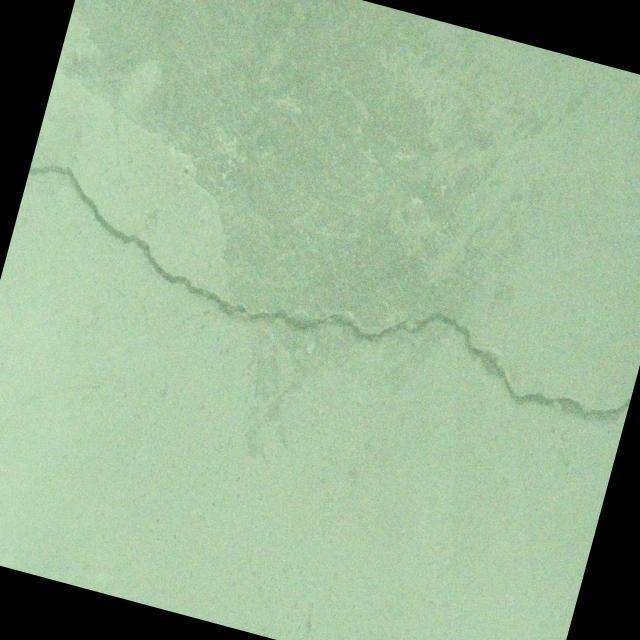crack: (0, 157, 640, 452), (5, 350, 116, 449)
